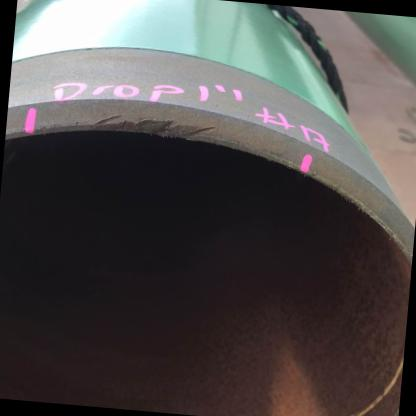Bevel: (181, 119, 233, 149), (138, 104, 178, 142), (89, 104, 128, 132)
